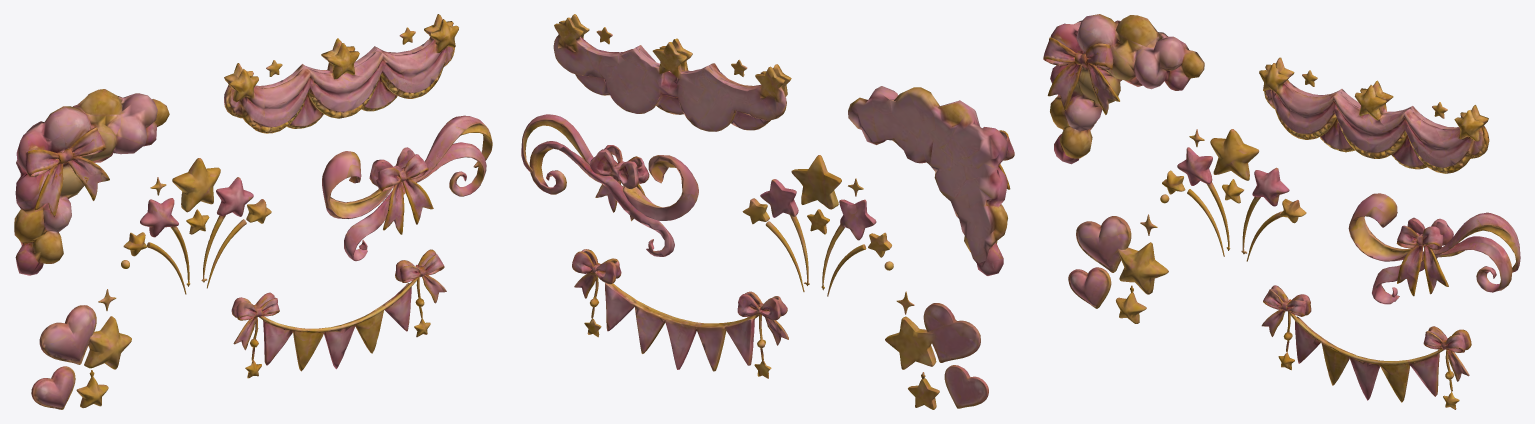
3 views of the same model, side by side, from view 1: azimuth 30°, elevation 25°; view 2: azimuth 150°, elevation 25°; view 3: azimuth 330°, elevation 25° (orthographic). The views are drawn at different scales.
Parts seen in each view (by area): view 1: model_part15, model_part0, model_part21, model_part17, model_part3, model_part1, model_part18, model_part11, model_part2, model_part16, model_part13, model_part8 (+1 smaller); view 2: model_part0, model_part15, model_part21, model_part17, model_part3, model_part18, model_part11, model_part2, model_part16, model_part8, model_part13, model_part4; view 3: model_part15, model_part0, model_part21, model_part17, model_part3, model_part1, model_part18, model_part11, model_part2, model_part16, model_part8, model_part13 (+1 smaller).
Boxes of the visible parts, x1,y1,x2,y2 form: model_part15: [224, 14, 458, 133]; model_part0: [14, 89, 169, 275]; model_part21: [322, 115, 492, 261]; model_part17: [245, 276, 419, 378]; model_part3: [39, 305, 131, 369]; model_part1: [26, 127, 109, 216]; model_part18: [395, 249, 446, 337]; model_part11: [172, 158, 220, 212]; model_part2: [31, 366, 75, 409]; model_part16: [231, 292, 279, 350]; model_part13: [201, 177, 253, 282]; model_part8: [140, 198, 190, 286]; model_part0: [848, 86, 1007, 275]; model_part15: [553, 14, 791, 131]; model_part21: [521, 114, 698, 256]; model_part17: [605, 283, 771, 378]; model_part3: [885, 303, 980, 369]; model_part18: [572, 249, 621, 337]; model_part11: [791, 155, 841, 209]; model_part2: [944, 365, 988, 408]; model_part16: [737, 291, 788, 345]; model_part8: [821, 199, 876, 290]; model_part13: [760, 179, 809, 285]; model_part4: [908, 372, 939, 409]; model_part15: [1259, 57, 1489, 173]; model_part0: [1050, 14, 1204, 164]; model_part21: [1348, 193, 1520, 304]; model_part17: [1278, 311, 1444, 402]; model_part3: [1076, 216, 1168, 294]; model_part1: [1043, 37, 1119, 114]; model_part18: [1423, 326, 1471, 409]; model_part11: [1210, 129, 1259, 180]; model_part2: [1068, 267, 1111, 308]; model_part16: [1261, 285, 1311, 336]; model_part8: [1177, 147, 1230, 250]; model_part13: [1241, 167, 1289, 254].
Bounding box in the file's own units: 1.9 × 1.28 × 0.1667.
Materials: 1 (1 with a texture image).
